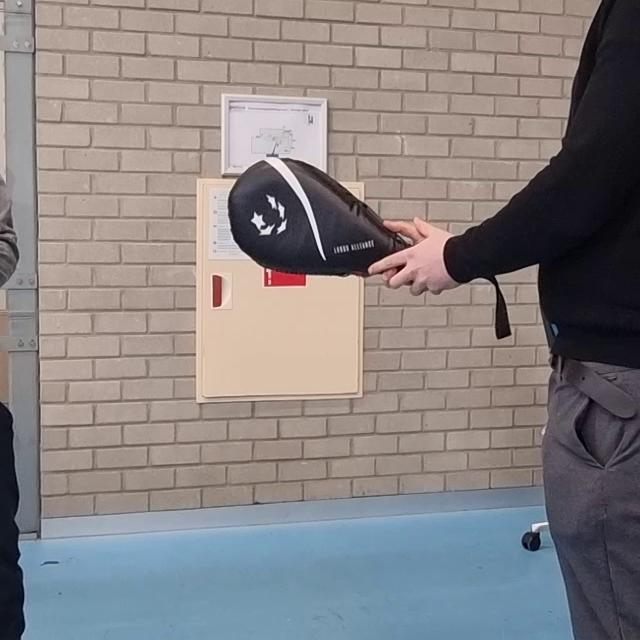paddle: (229, 157, 410, 277)
